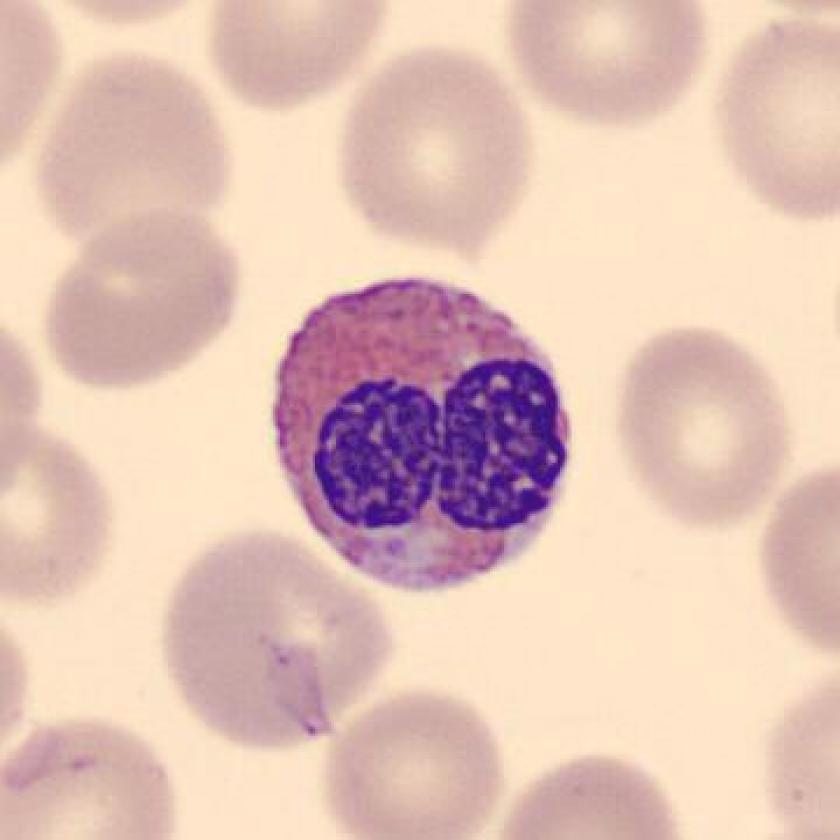eosinophil: (258, 258, 584, 609)
